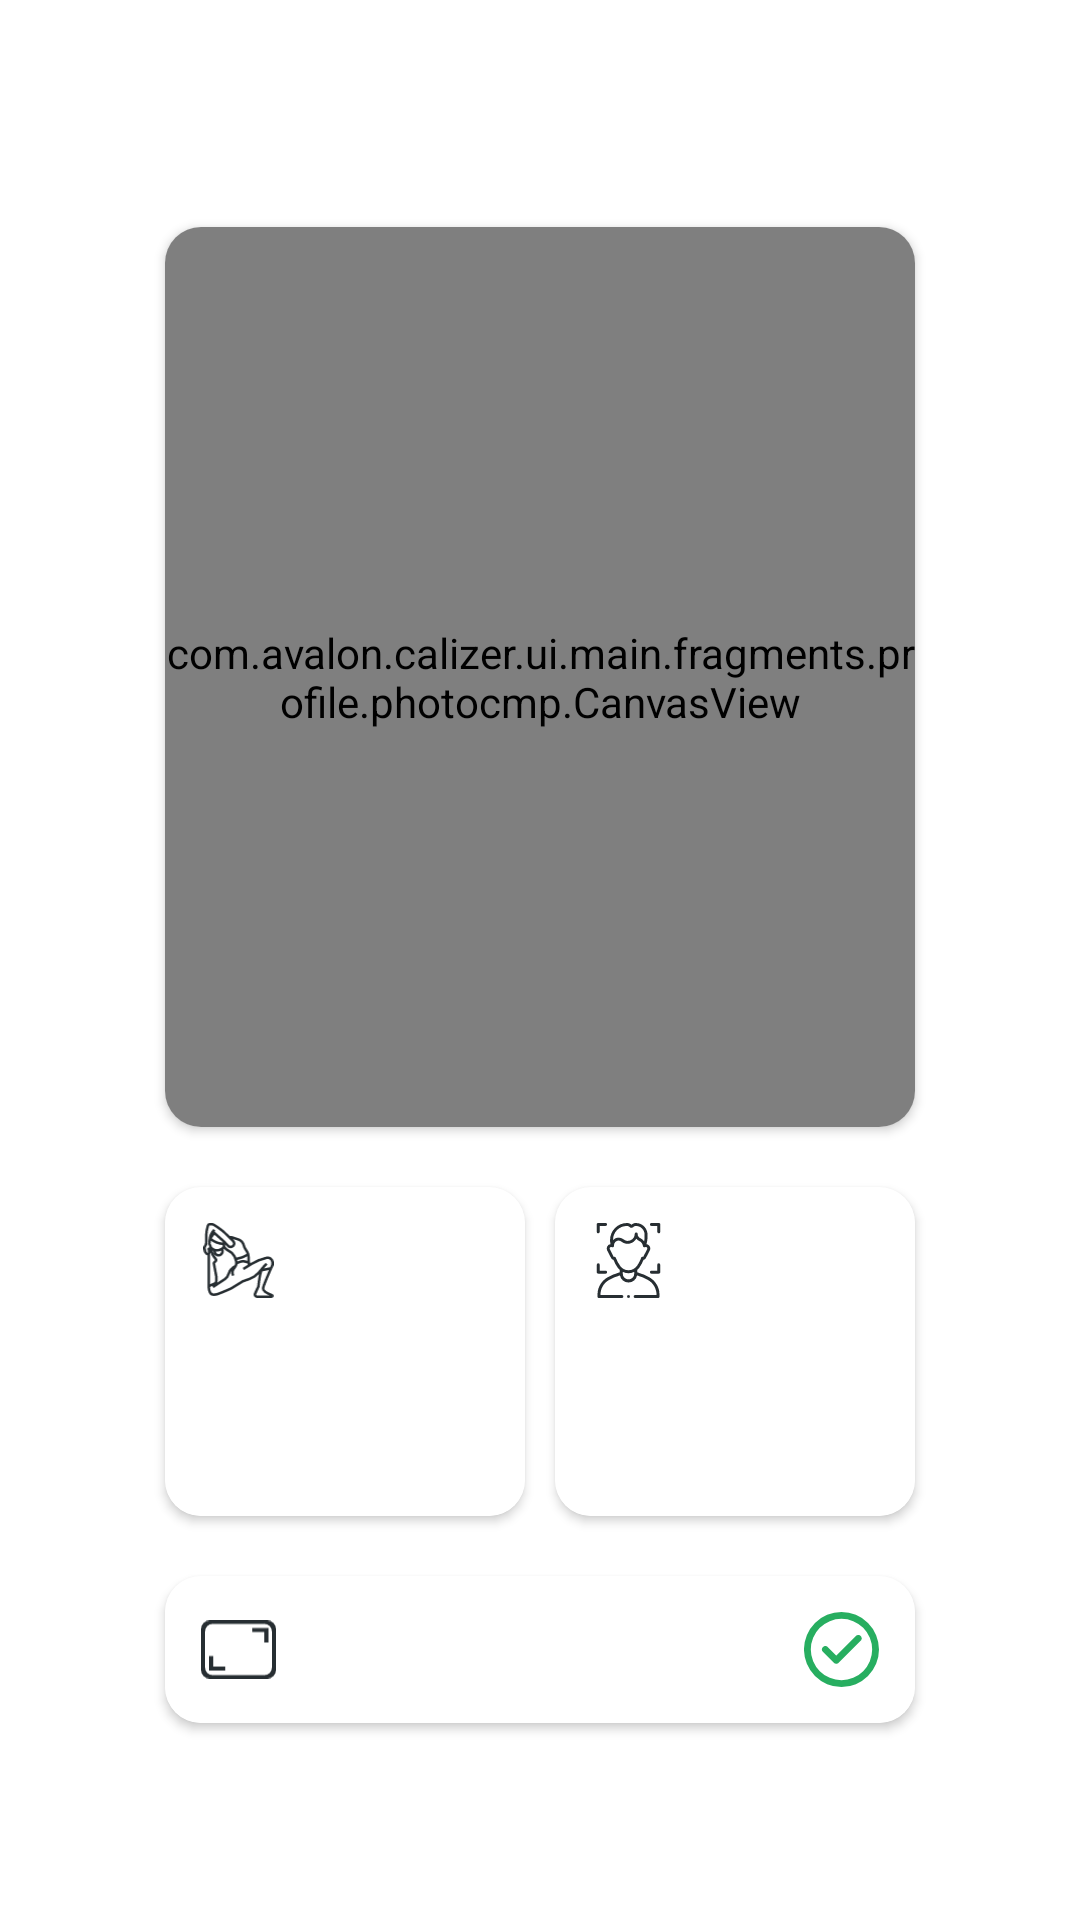

Icon click points for this 1080x1920 phone screenshot, format (x=x, y=y):
check true: (x=841, y=1649)
face detection: (x=628, y=1260)
pose analyze: (x=238, y=1260)
resolution: (x=238, y=1649)
